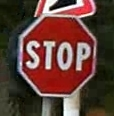stop: (14, 10, 99, 98)
